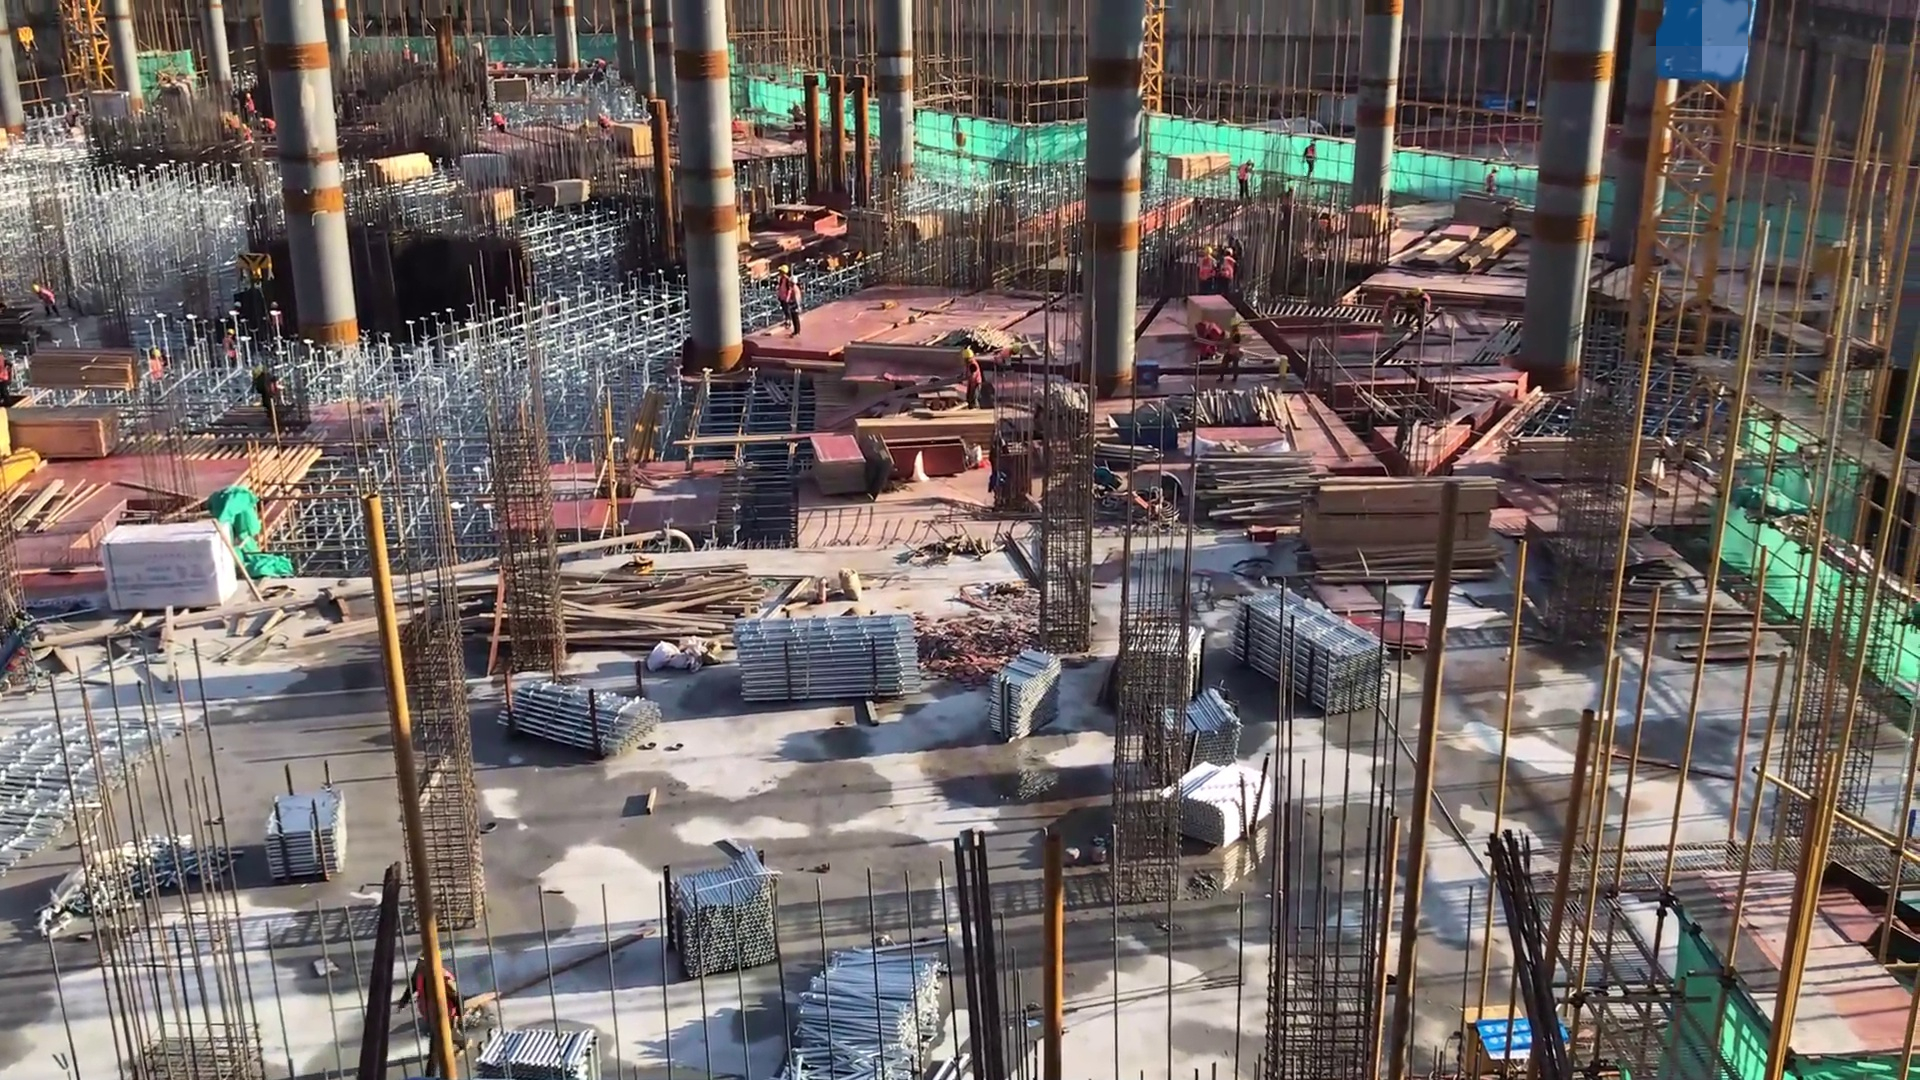helmet: (959, 347, 977, 362), (147, 347, 165, 361), (1200, 242, 1214, 258), (222, 327, 236, 341), (789, 272, 802, 288), (778, 262, 791, 276), (1221, 246, 1236, 258), (33, 279, 41, 300), (1410, 285, 1423, 297), (1490, 166, 1500, 176), (1247, 158, 1257, 166)
person: (397, 946, 470, 1077), (1219, 326, 1244, 387), (1196, 315, 1228, 363), (961, 346, 983, 414), (1196, 244, 1217, 307), (1409, 283, 1435, 334), (1234, 156, 1256, 212), (1216, 246, 1237, 300), (33, 281, 60, 320), (148, 344, 170, 393), (787, 273, 802, 341), (778, 259, 791, 333), (1300, 137, 1319, 184), (223, 328, 242, 369), (1, 343, 16, 396), (1482, 162, 1498, 206), (242, 91, 258, 127), (258, 116, 280, 140), (490, 110, 508, 137), (596, 110, 611, 141)
vest: (965, 357, 986, 389), (1199, 256, 1216, 286), (1219, 257, 1236, 283)
